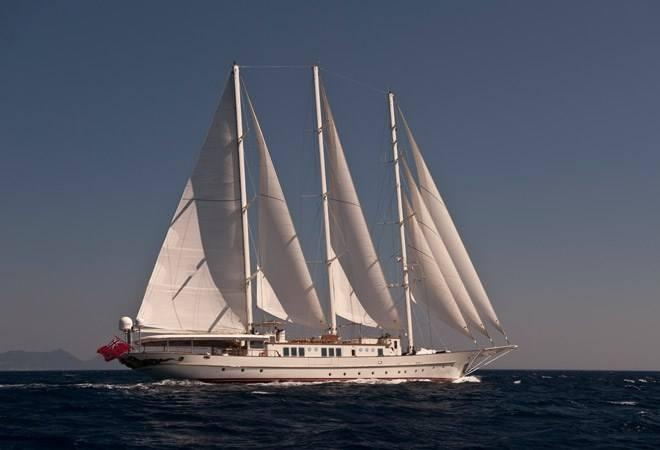fanchuan: (99, 59, 522, 384)
